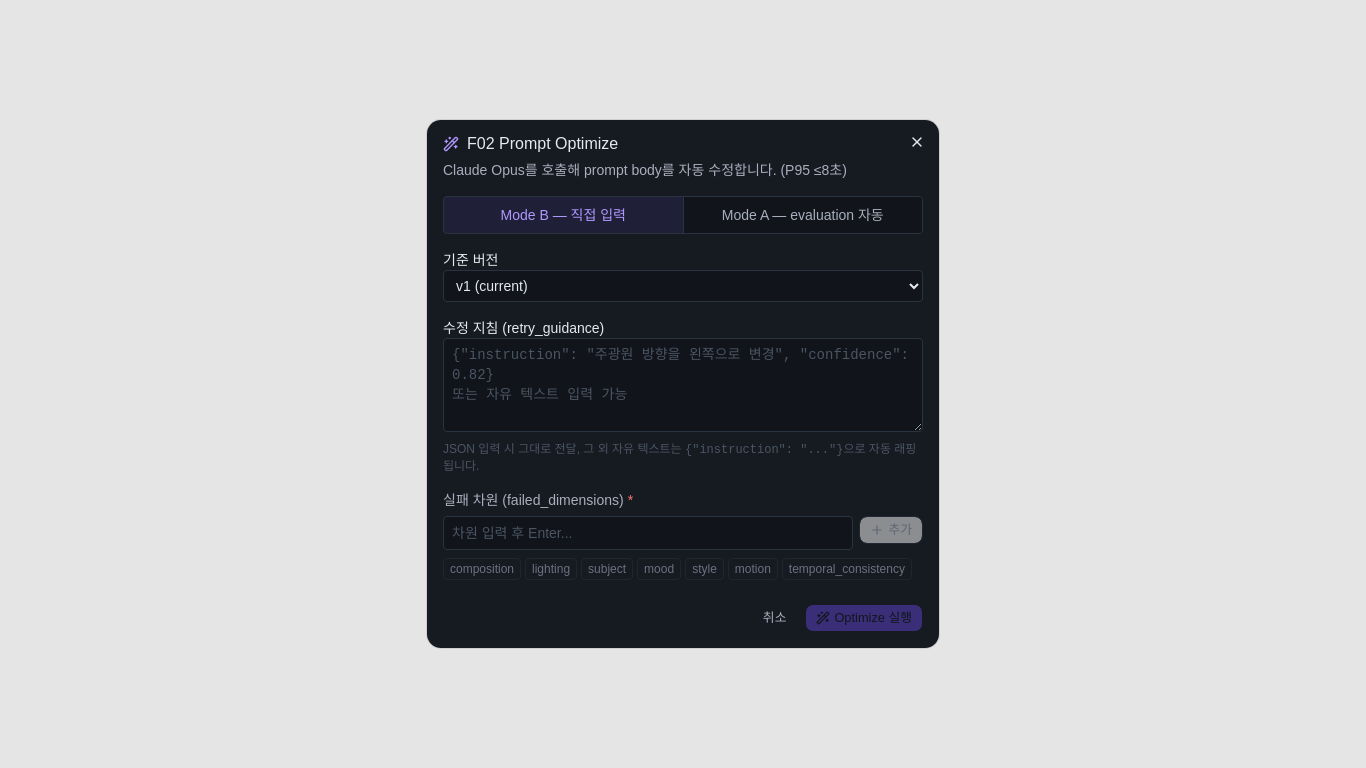
it: OptimizeDialog › Mode B — retry_guidance + dimension + version 모두 입력 시 버튼 활성화
Step 1. Select "v1 (current)" in the dropdown named "기준 버전 선택" → (683, 286), box x1=443 y1=270 x2=923 y2=302
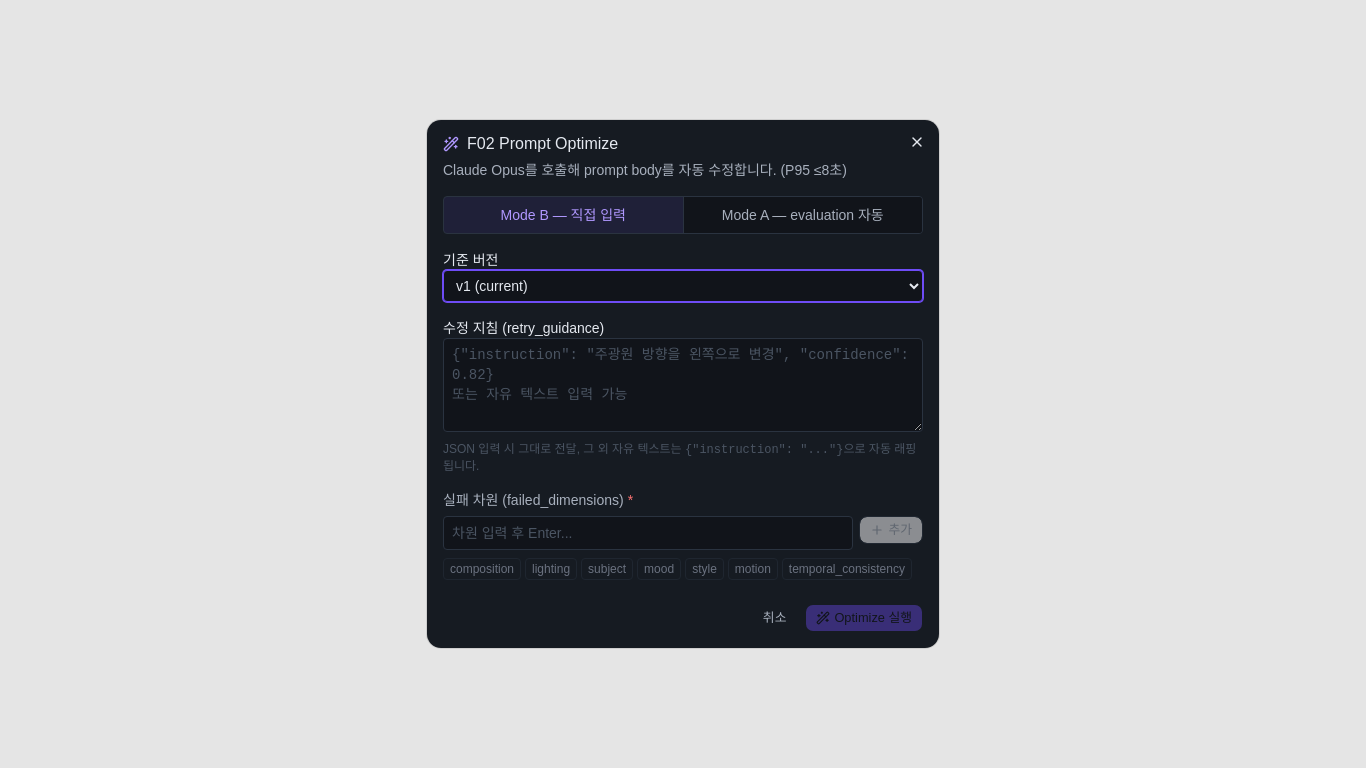
Note: retry_guidance 입력
Step 2. Type "주광원 방향을 변경하세요" into the text box named "수정 지침 입력" → (683, 385), box x1=443 y1=338 x2=923 y2=432
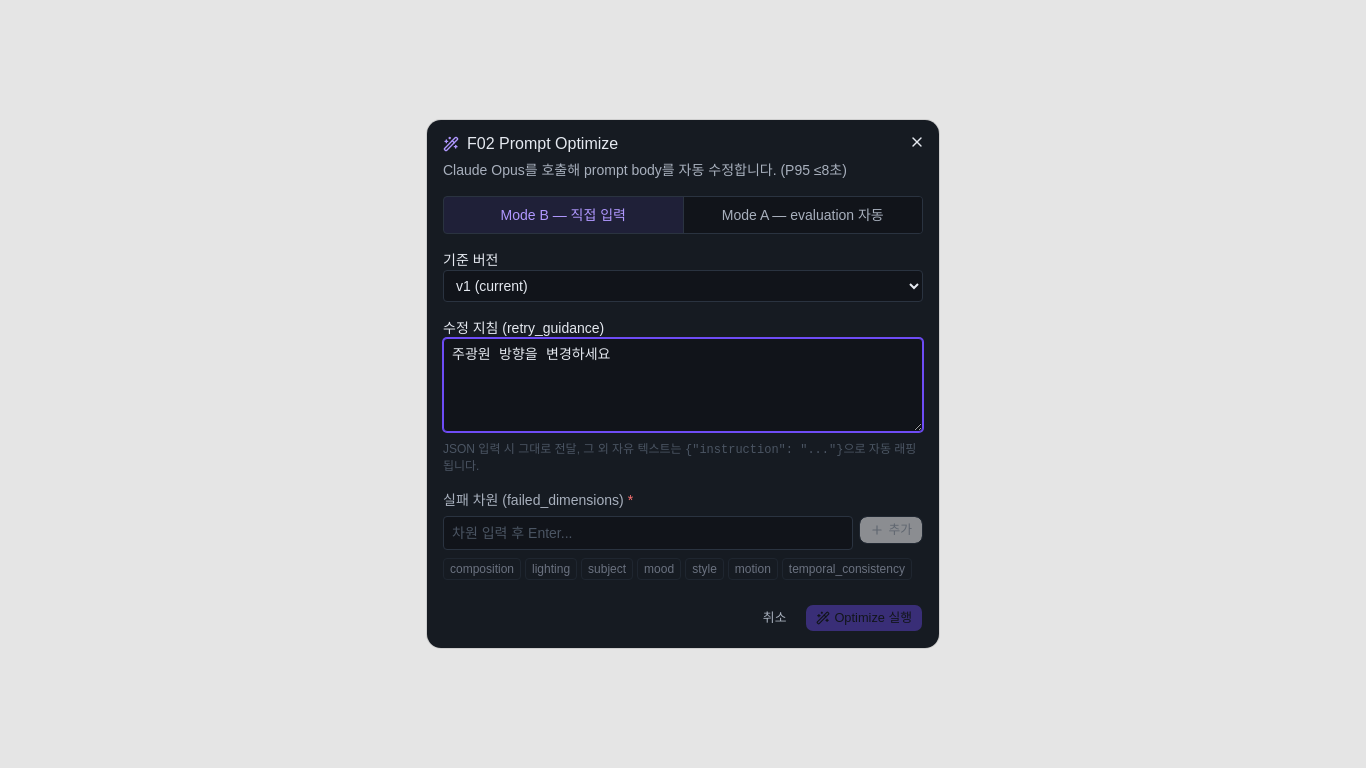
Note: dimension 추가
Step 3. Type "lighting" into the field named "실패 차원 입력" → (648, 533), box x1=443 y1=516 x2=854 y2=550
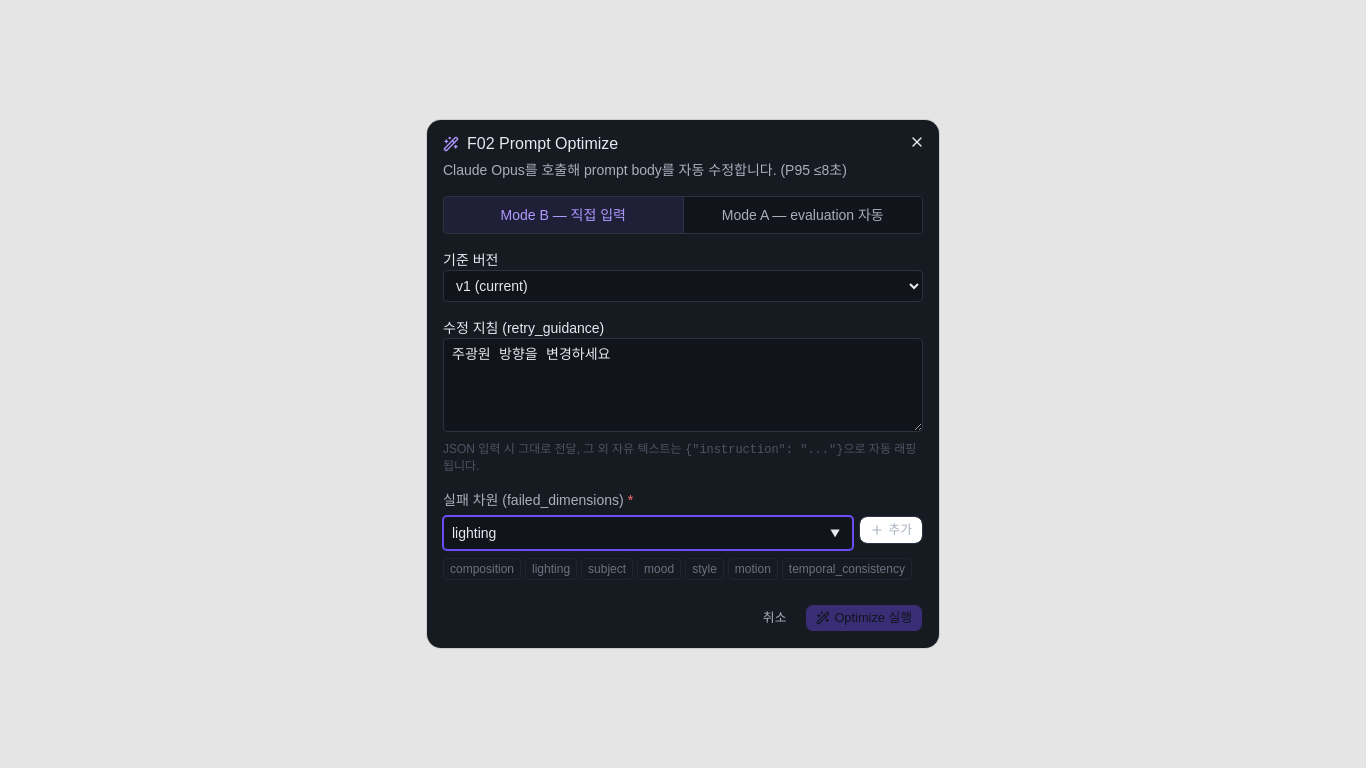
Step 4. Click the button with aria-label "차원 추가" → (891, 530), box x1=860 y1=516 x2=923 y2=544
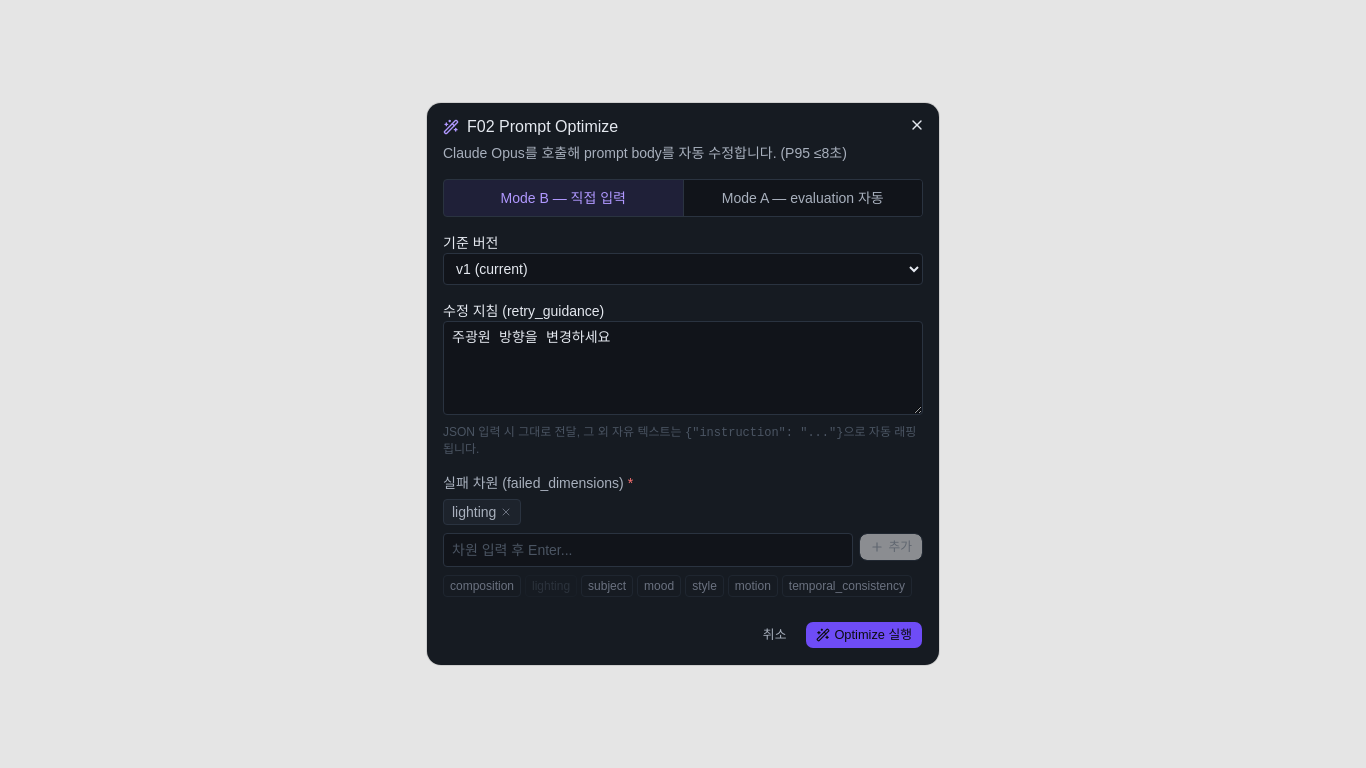
Result: the button "Optimize 실행" is enabled at x1=805 y1=621 x2=923 y2=649
